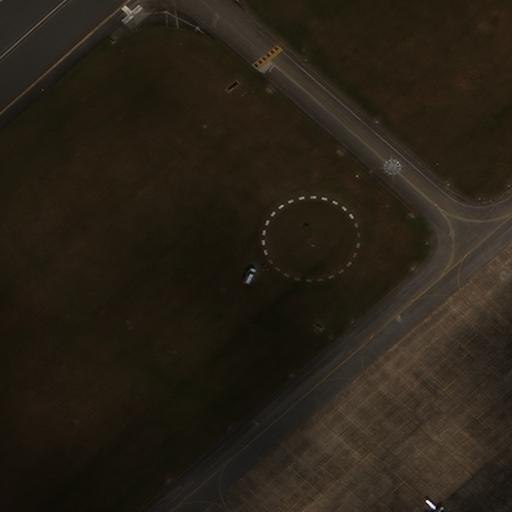Small Civil Transport: (426, 499, 446, 511)
